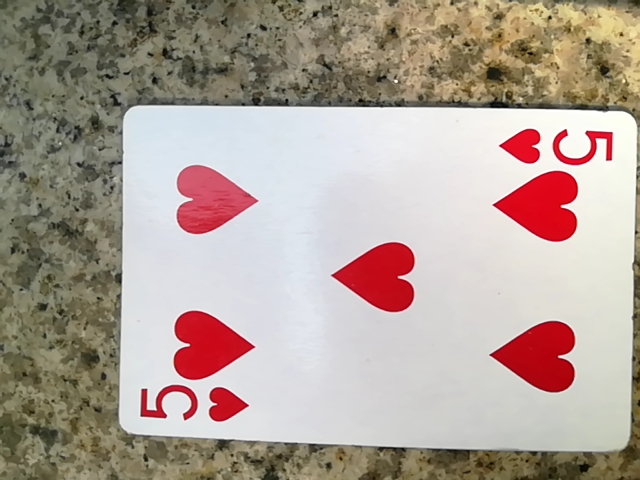hx 5: (94, 102, 628, 462)
